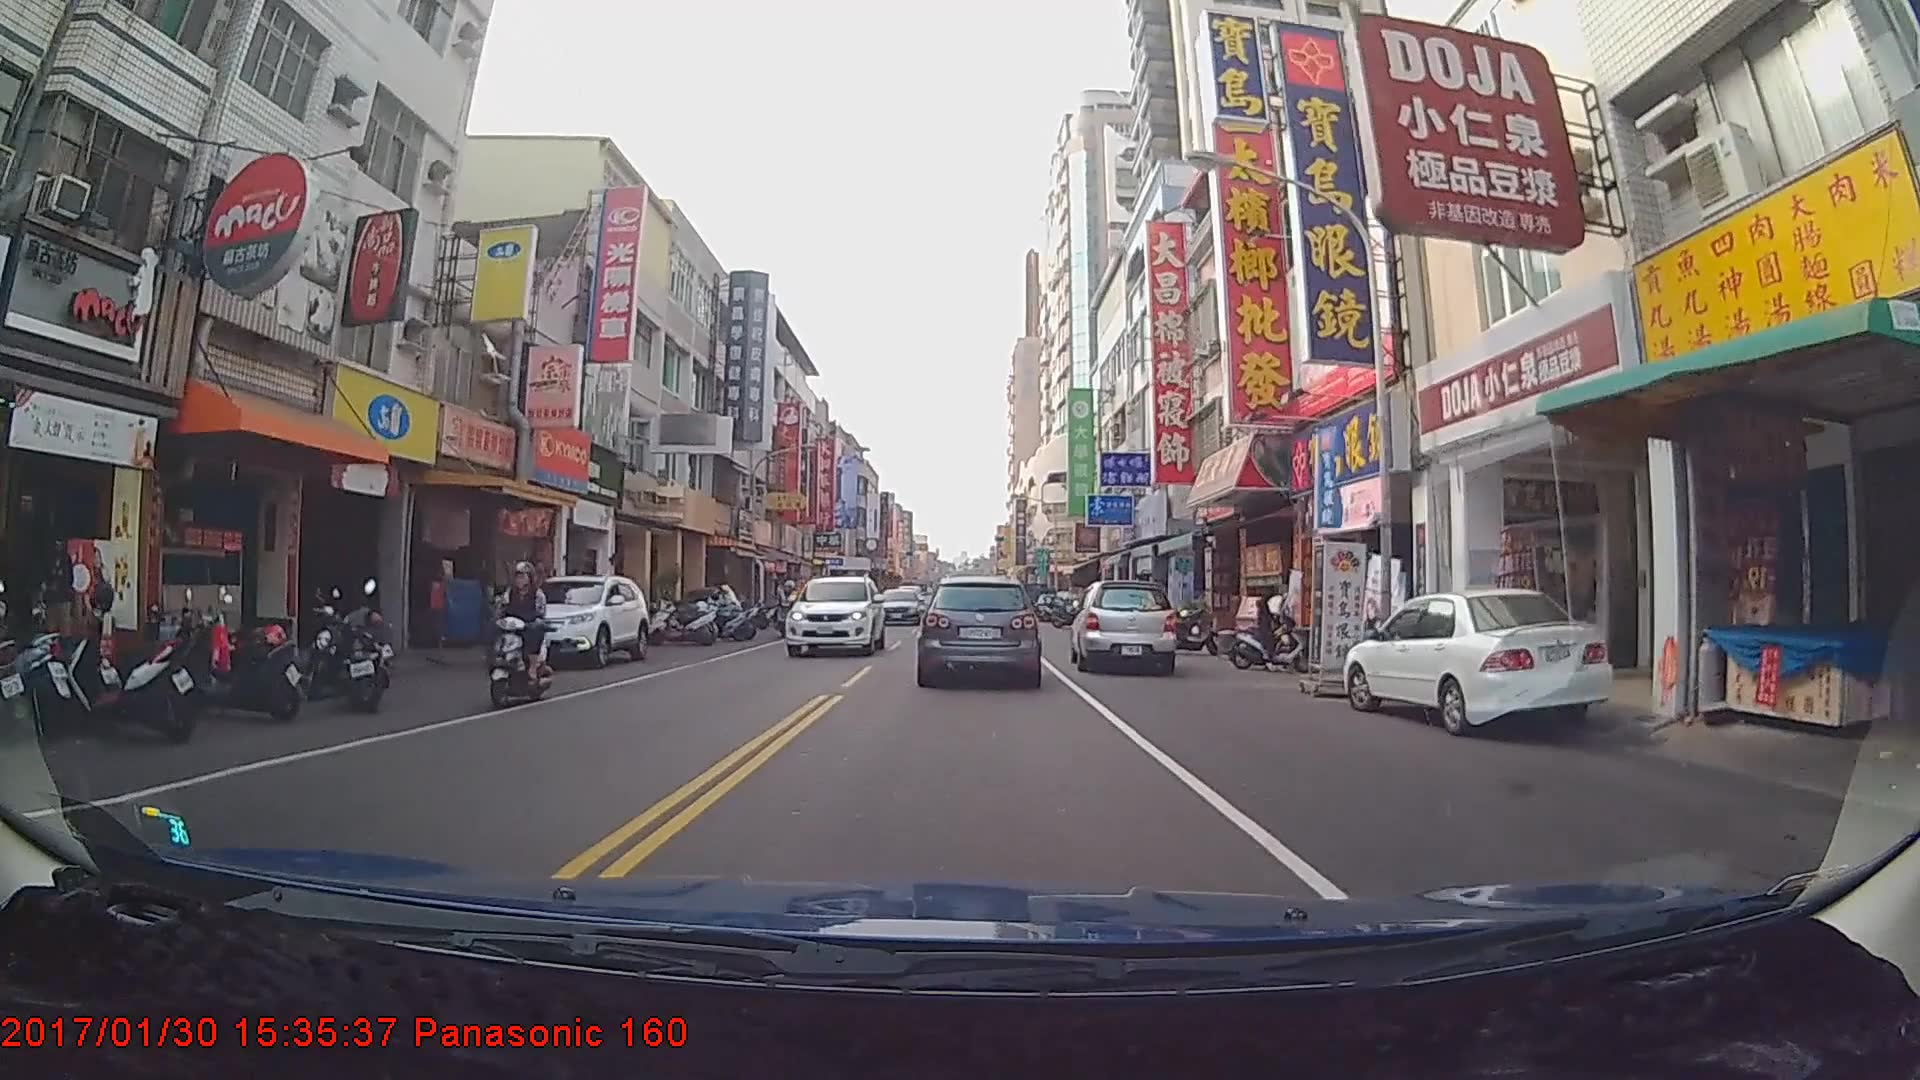rider: (487, 560, 558, 712), (1227, 579, 1320, 672)
vehicle: (1340, 588, 1615, 730), (497, 574, 647, 670), (920, 575, 1040, 684), (1072, 574, 1178, 672), (785, 572, 884, 656), (871, 585, 922, 624)
